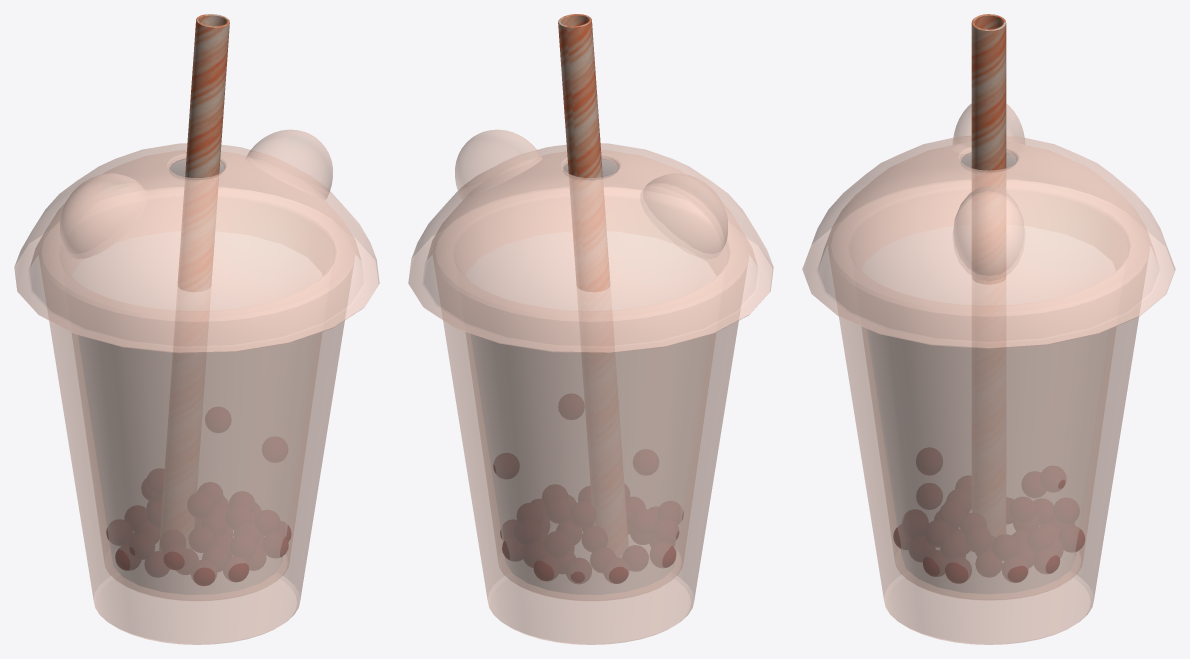
The picture shows the model from 3 angles, left to right: view 1: azimuth 30°, elevation 25°; view 2: azimuth 150°, elevation 25°; view 3: azimuth 270°, elevation 25°; orthographic projection.
Parts seen in each view (by area): view 1: gobelet, couvercle, liquide, paille; view 2: gobelet, couvercle, liquide, paille; view 3: gobelet, couvercle, liquide, paille.
Part boxes in pixels (<box>): gobelet: <box>39,187,354,644</box>; couvercle: <box>14,129,379,353</box>; liquide: <box>71,231,321,594</box>; paille: <box>178,14,229,292</box>; gobelet: <box>433,187,748,644</box>; couvercle: <box>408,129,773,353</box>; liquide: <box>466,231,716,594</box>; paille: <box>558,14,609,292</box>; gobelet: <box>828,180,1149,644</box>; couvercle: <box>802,103,1175,348</box>; liquide: <box>862,226,1115,593</box>; paille: <box>971,14,1006,284</box>.
Bounding box in the file's own units: 49.92 × 86.84 × 49.92.
Materials: 4 (3 with a texture image).
